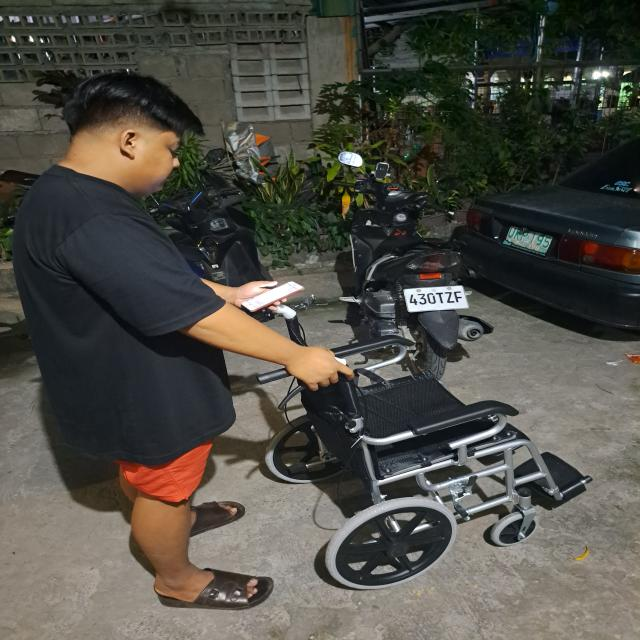wheelchairs: (245, 304, 605, 593)
